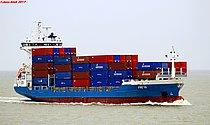Ship: (10, 16, 194, 111)
